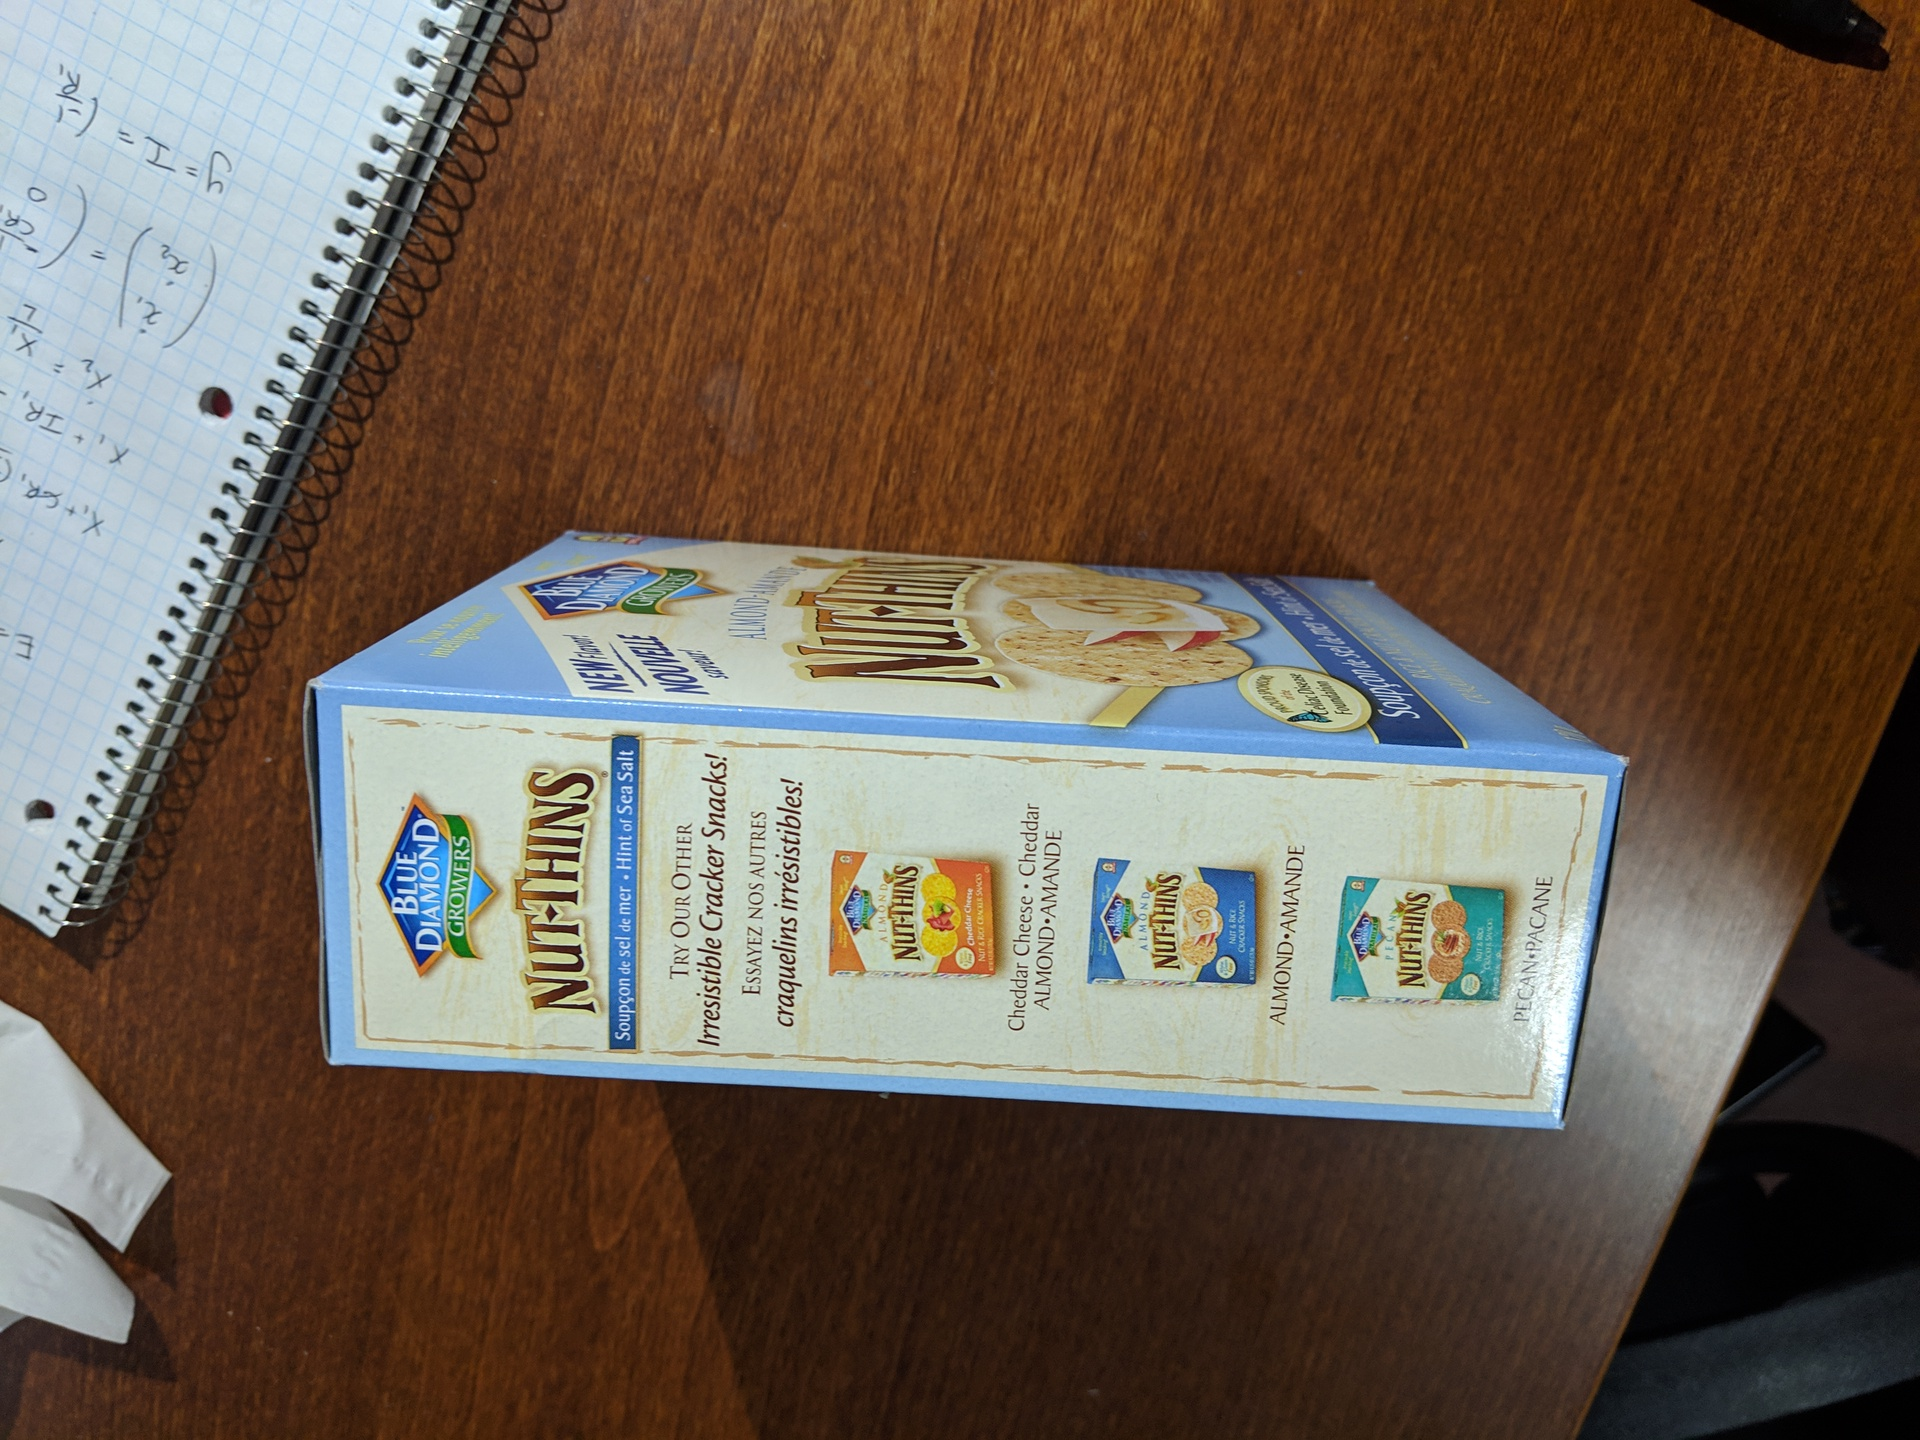blue_diamond_nut_thins_almond_seasalt: (304, 529, 1624, 1116)
